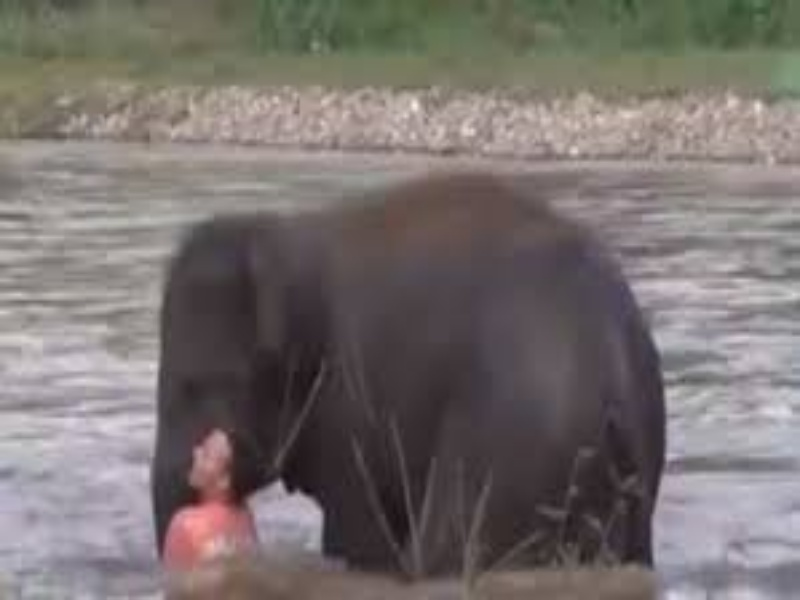elephant: (107, 167, 705, 541)
